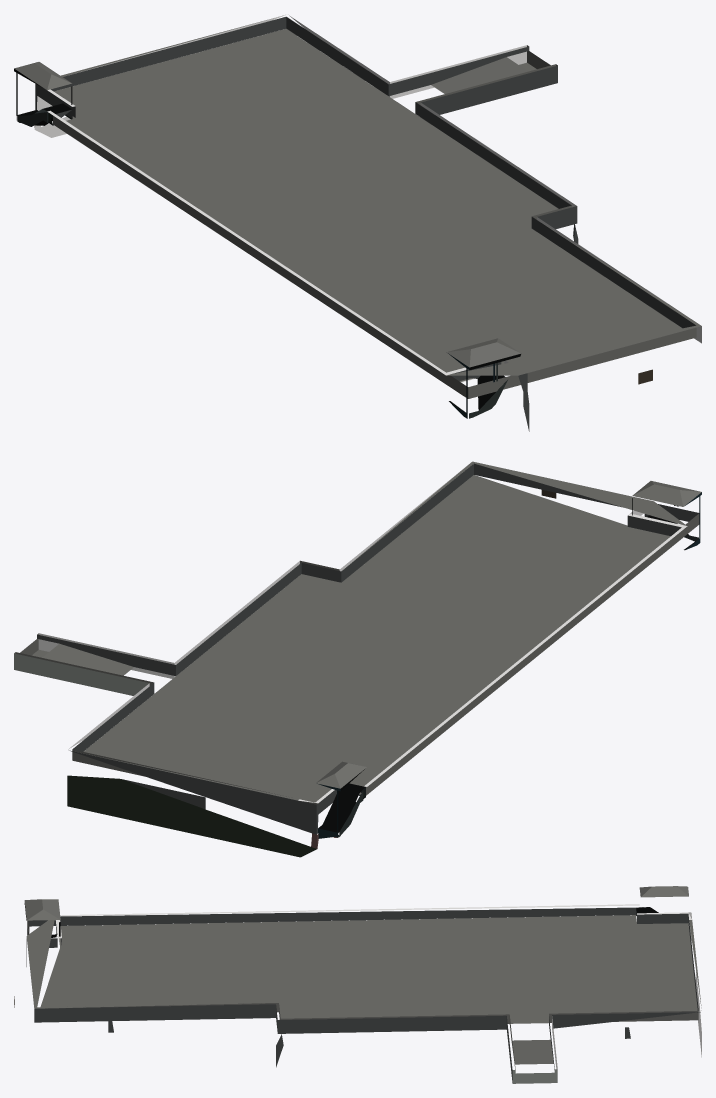
File: parking-deck.glb
The picture shows the model from 3 angles, top to bottom: view 1: azimuth 30°, elevation 25°; view 2: azimuth 150°, elevation 25°; view 3: azimuth 270°, elevation 25°; orthographic projection. The views are drawn at different scales.
Parts seen in each view (by area): view 1: LOD0; view 2: LOD0; view 3: LOD0.
Boxes of the visible parts, x1,y1,x2,y2 form: LOD0: (14,15,701,431); LOD0: (14,461,701,857); LOD0: (14,886,701,1083).
Size of what is drawn, in the model's own units: 59.06 by 11.58 by 103.
3 materials, 3 textured.
